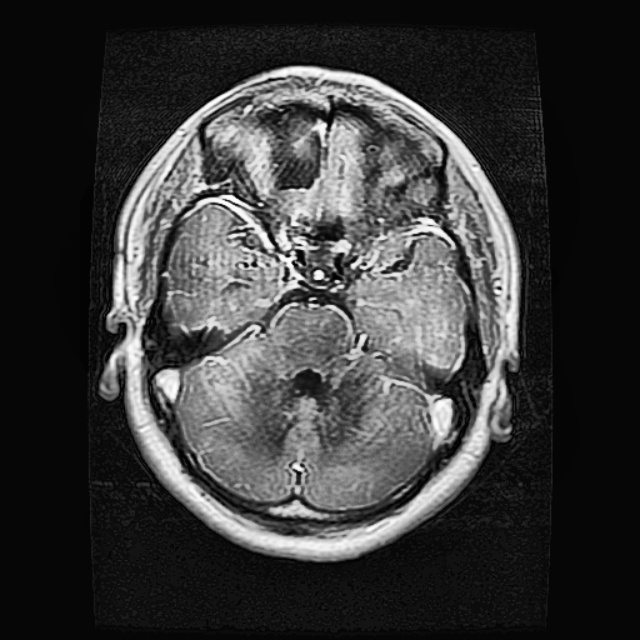Meningioma: (238, 99, 329, 193)
